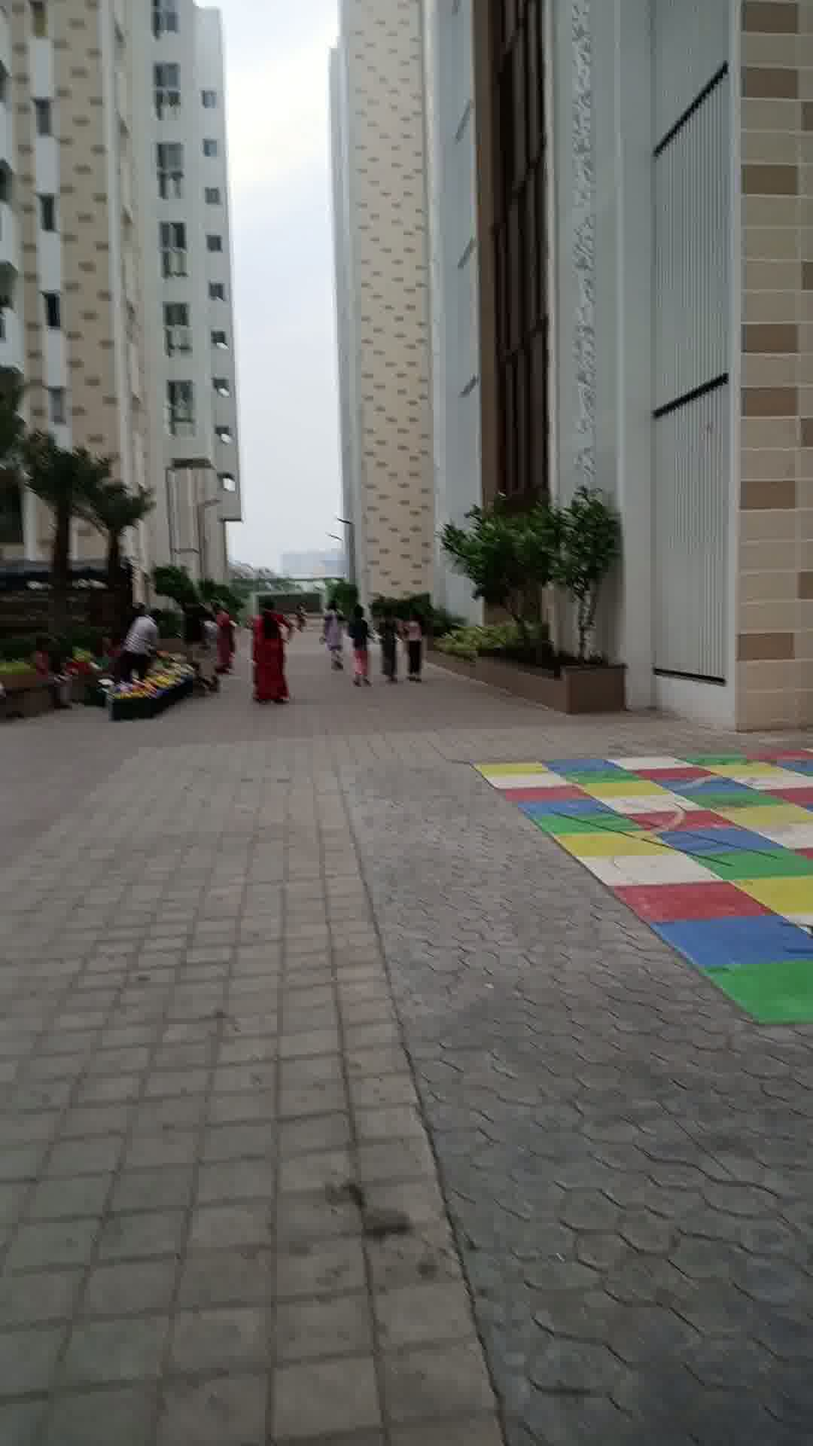person: (247, 583, 306, 716), (394, 597, 434, 691), (209, 592, 247, 680), (345, 592, 373, 693), (317, 592, 347, 674)
tree: (532, 455, 640, 695), (432, 475, 549, 655), (19, 417, 102, 666), (91, 467, 152, 672)
